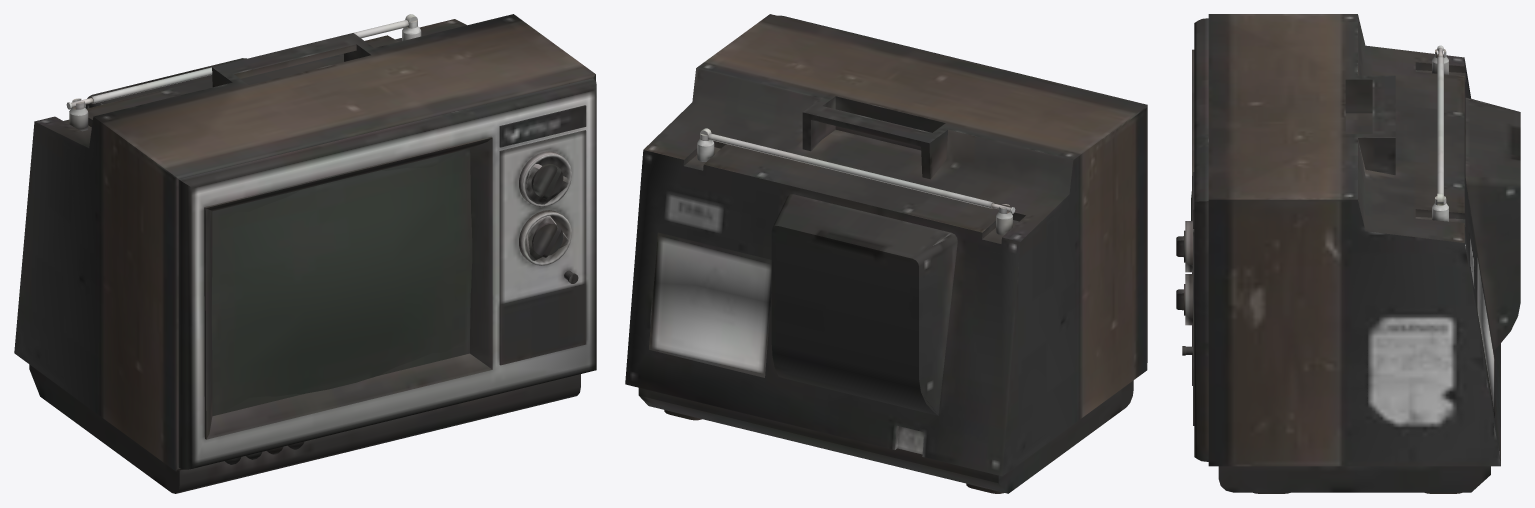
File: Television_01.glb
3 views of the same model, side by side, from view 1: azimuth 30°, elevation 25°; view 2: azimuth 150°, elevation 25°; view 3: azimuth 270°, elevation 25° (orthographic). The views are drawn at different scales.
Parts seen in each view (by area): view 1: Television_01, Television_01_lo; view 2: Television_01, Television_01_lo; view 3: Television_01, Television_01_lo.
Part boxes in pixels (x1,y1,x2,y2): Television_01: [14, 14, 596, 493]; Television_01_lo: [16, 14, 595, 492]; Television_01: [638, 14, 1147, 493]; Television_01_lo: [625, 14, 1147, 483]; Television_01: [1176, 14, 1520, 493]; Television_01_lo: [1192, 14, 1520, 490].
Bounding box in the file's own units: 0.6 × 0.4569 × 0.4708.
Materials: 1 (1 with a texture image).
